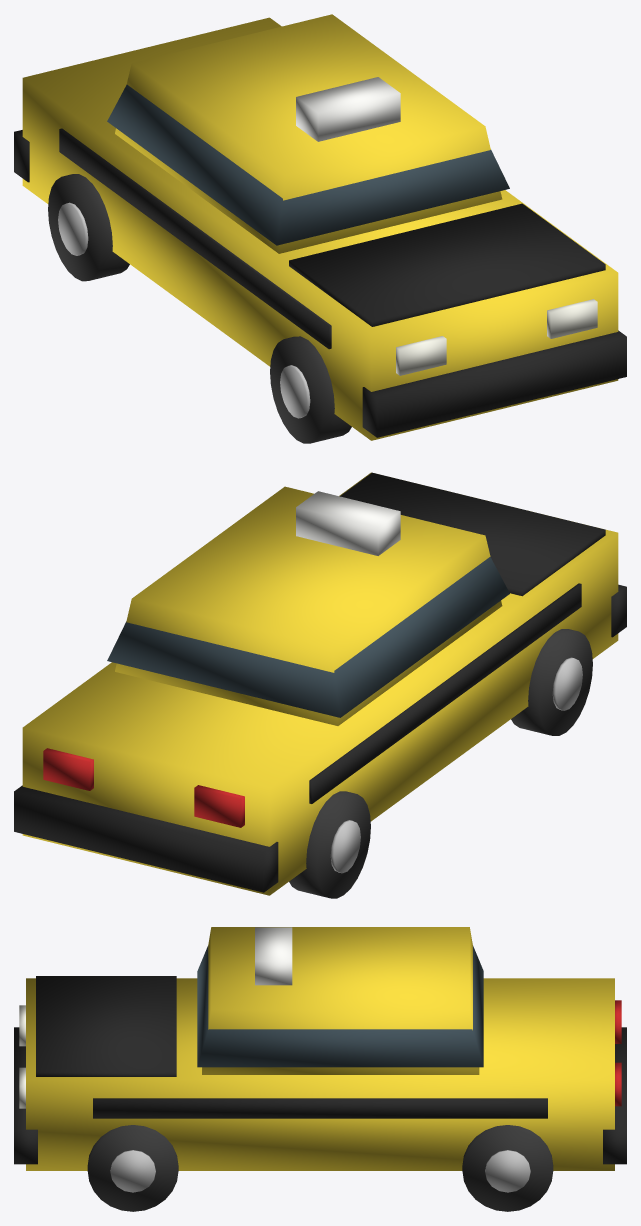
File: taxi.glb
The picture shows the model from 3 angles, top to bottom: view 1: azimuth 30°, elevation 25°; view 2: azimuth 150°, elevation 25°; view 3: azimuth 270°, elevation 25°; orthographic projection. The views are drawn at different scales.
Visible parts, largest first — view 1: Taxi_Body, Taxi_Cabin, Taxi_HoodTrim, Taxi_Glass, Taxi_BumperF, Taxi_StripeR, Taxi_Sign, Wheel_FR, Wheel_RR, Taxi_HeadL, Taxi_HeadR, Wheel_RR_Hub (+2 smaller); view 2: Taxi_Body, Taxi_Cabin, Taxi_Glass, Taxi_BumperR, Taxi_HoodTrim, Taxi_StripeR, Taxi_Sign, Wheel_FR, Wheel_RR, Taxi_TailL, Taxi_TailR, Wheel_RR_Hub (+2 smaller); view 3: Taxi_Body, Taxi_Cabin, Taxi_HoodTrim, Taxi_Glass, Taxi_StripeL, Wheel_FL, Wheel_RL, Taxi_Sign, Taxi_BumperF, Taxi_BumperR, Wheel_FL_Hub, Wheel_RL_Hub.
Part boxes in pixels (box(x1,y1,x2,y2)): Taxi_Body: box(22, 17, 618, 440); Taxi_Cabin: box(115, 14, 502, 253); Taxi_HoodTrim: box(289, 203, 605, 326); Taxi_Glass: box(107, 84, 509, 245); Taxi_BumperF: box(362, 330, 626, 437); Taxi_StripeR: box(59, 128, 331, 349); Taxi_Sign: box(296, 77, 400, 141); Wheel_FR: box(270, 336, 351, 443); Wheel_RR: box(48, 174, 129, 281); Taxi_HeadL: box(547, 299, 597, 338); Taxi_HeadR: box(396, 336, 446, 375); Wheel_RR_Hub: box(58, 202, 88, 255); Taxi_Body: box(22, 472, 618, 895); Taxi_Cabin: box(115, 486, 502, 725); Taxi_Glass: box(107, 557, 509, 717); Taxi_BumperR: box(14, 785, 278, 892); Taxi_HoodTrim: box(340, 472, 605, 596); Taxi_StripeR: box(309, 583, 581, 803); Taxi_Sign: box(296, 491, 400, 555); Wheel_FR: box(511, 629, 592, 735); Wheel_RR: box(289, 791, 370, 898); Taxi_TailL: box(43, 748, 93, 790); Taxi_TailR: box(194, 785, 244, 827); Wheel_RR_Hub: box(330, 820, 360, 873); Taxi_Body: box(26, 978, 614, 1170); Taxi_Cabin: box(202, 927, 479, 1074); Taxi_HoodTrim: box(36, 976, 176, 1076); Taxi_Glass: box(197, 945, 483, 1067); Taxi_StripeL: box(93, 1098, 547, 1118); Wheel_FL: box(87, 1125, 178, 1211); Wheel_RL: box(462, 1125, 553, 1211); Taxi_Sign: box(255, 927, 292, 985); Taxi_BumperF: box(14, 1027, 37, 1164); Taxi_BumperR: box(603, 1027, 626, 1164); Wheel_FL_Hub: box(110, 1150, 155, 1192); Wheel_RL_Hub: box(485, 1150, 530, 1192).
Size of the model in its own units: 2.01 by 1.75 by 4.58.
